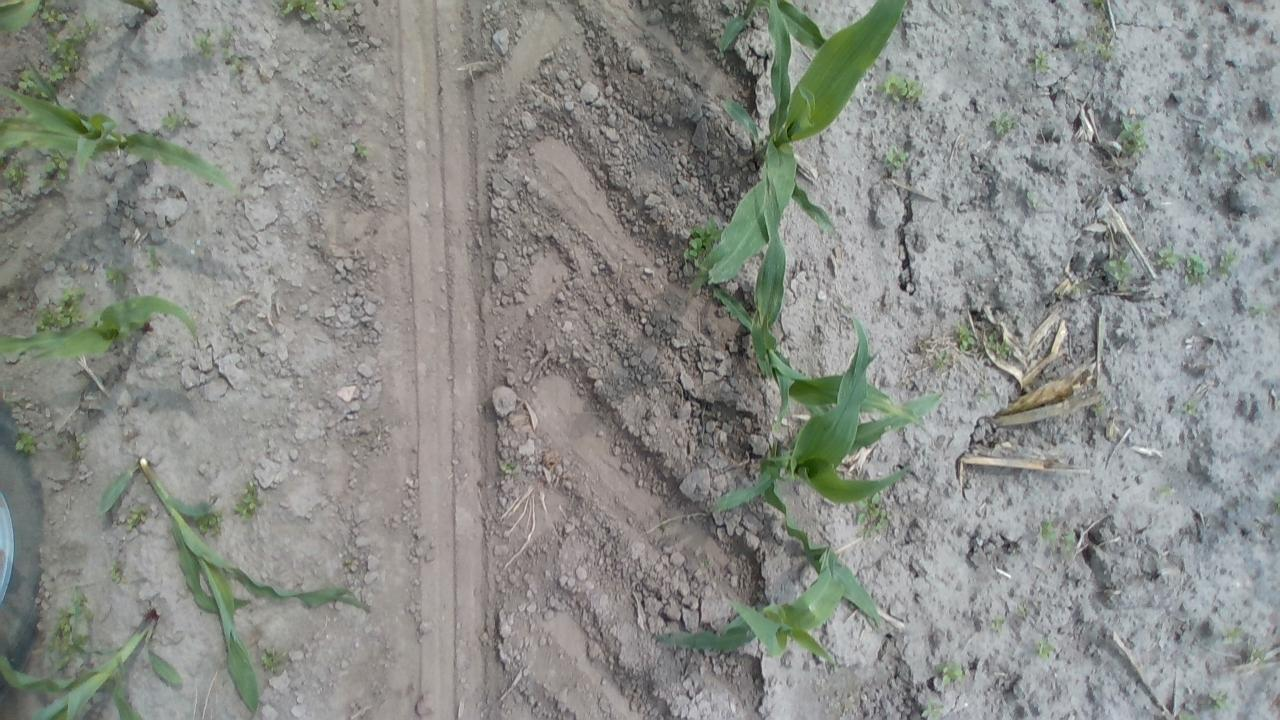Maize: (708, 297, 946, 628), (98, 453, 374, 720), (694, 1, 924, 292), (715, 160, 934, 439), (648, 514, 872, 668), (0, 58, 241, 197), (1, 597, 184, 720), (0, 292, 205, 366), (715, 0, 835, 61), (0, 1, 160, 34)
Weeds: (46, 594, 98, 672), (43, 15, 99, 84), (34, 284, 86, 331), (681, 218, 724, 274), (1074, 16, 1118, 62), (876, 69, 925, 108), (272, 0, 350, 23), (1114, 114, 1151, 159), (218, 27, 250, 76), (856, 493, 890, 539), (38, 148, 74, 189), (233, 480, 264, 526), (1104, 254, 1136, 291), (1182, 252, 1212, 290), (12, 426, 44, 460), (984, 329, 1014, 359), (260, 644, 290, 672), (920, 691, 951, 718), (1216, 248, 1240, 282), (195, 509, 224, 537), (884, 144, 912, 173), (1153, 244, 1180, 274), (102, 264, 132, 290), (4, 156, 30, 186), (60, 432, 87, 460), (194, 27, 217, 59), (989, 112, 1018, 137), (159, 108, 189, 132), (936, 660, 966, 684), (954, 322, 976, 352), (928, 346, 954, 371), (1032, 636, 1058, 661), (15, 68, 40, 94), (1034, 518, 1058, 545), (125, 504, 148, 532), (1027, 47, 1052, 72), (1053, 529, 1076, 556), (1204, 690, 1232, 712), (106, 557, 127, 584), (350, 138, 372, 163), (40, 2, 64, 24), (986, 615, 1008, 636), (1221, 624, 1244, 644), (1248, 153, 1270, 173), (1248, 300, 1270, 320), (1244, 646, 1268, 664), (1181, 397, 1201, 418), (498, 457, 520, 476), (144, 250, 163, 272), (306, 131, 324, 153), (1154, 482, 1174, 500), (976, 386, 998, 402), (1090, 400, 1108, 419), (1212, 148, 1228, 165), (1016, 600, 1031, 618), (1068, 283, 1084, 299), (1174, 710, 1200, 718), (1086, 0, 1108, 9), (1274, 492, 1280, 514), (1026, 190, 1036, 202)
